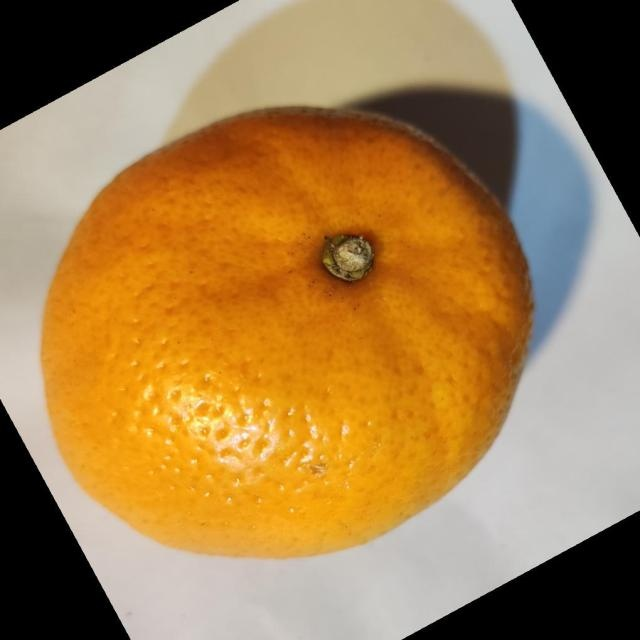agrume: (39, 102, 535, 560)
